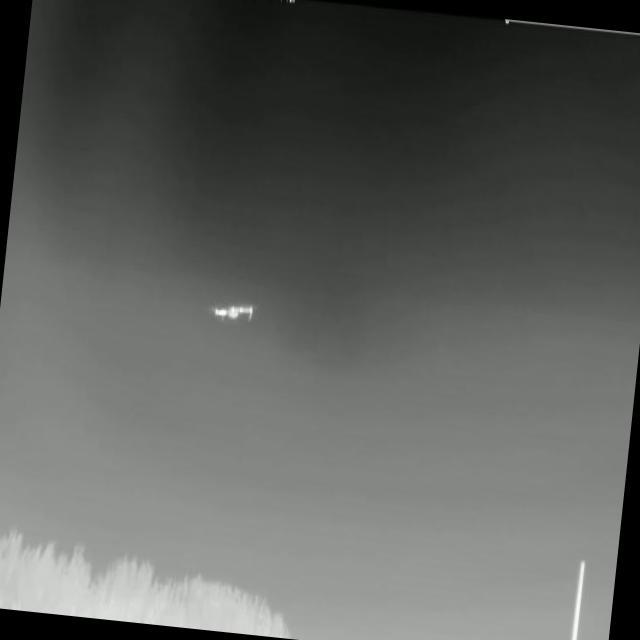DRONE: (206, 288, 266, 336)
